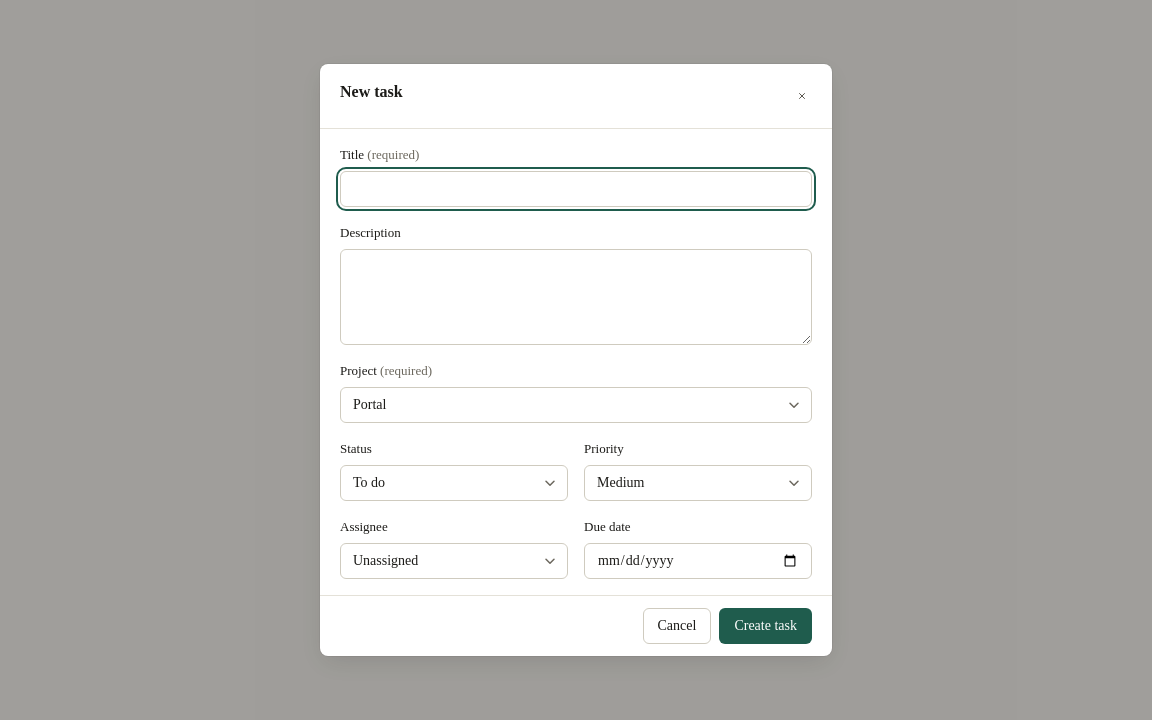
Test: TaskFormDialog › shows a validation message and does not submit an empty title
Click the button "Create task" at (766, 626), box [719,608,812,644]
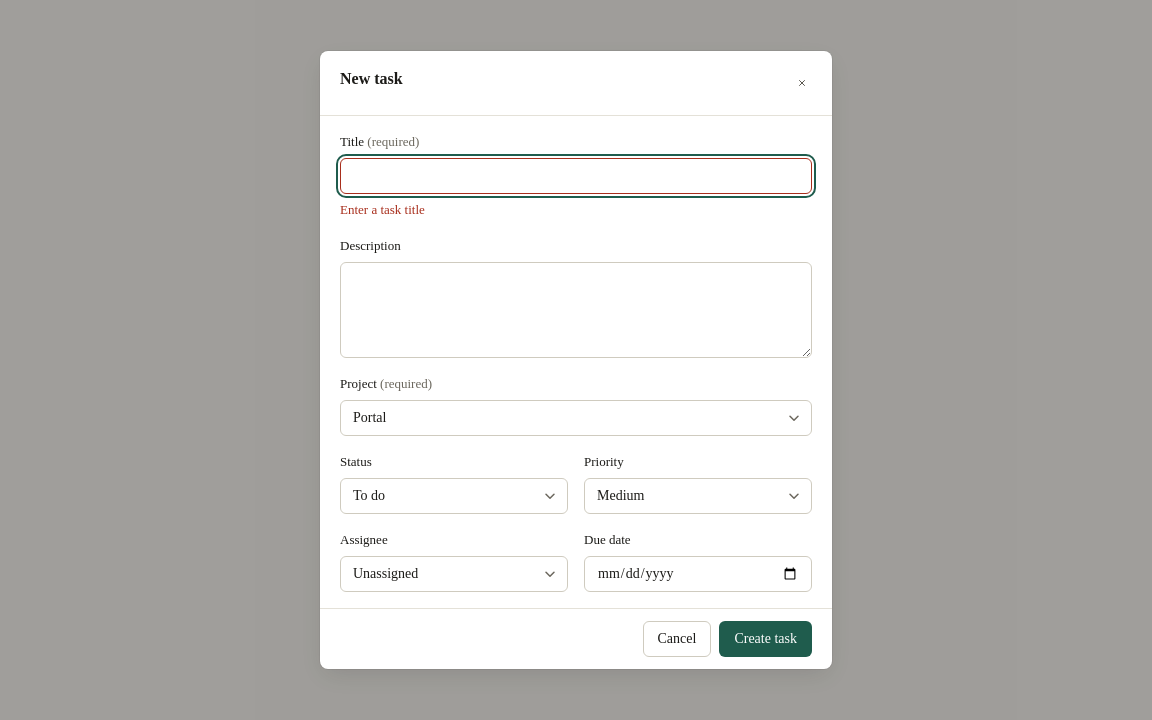
expect the text "Enter a task title" is shown: met, box [340,202,425,217]
